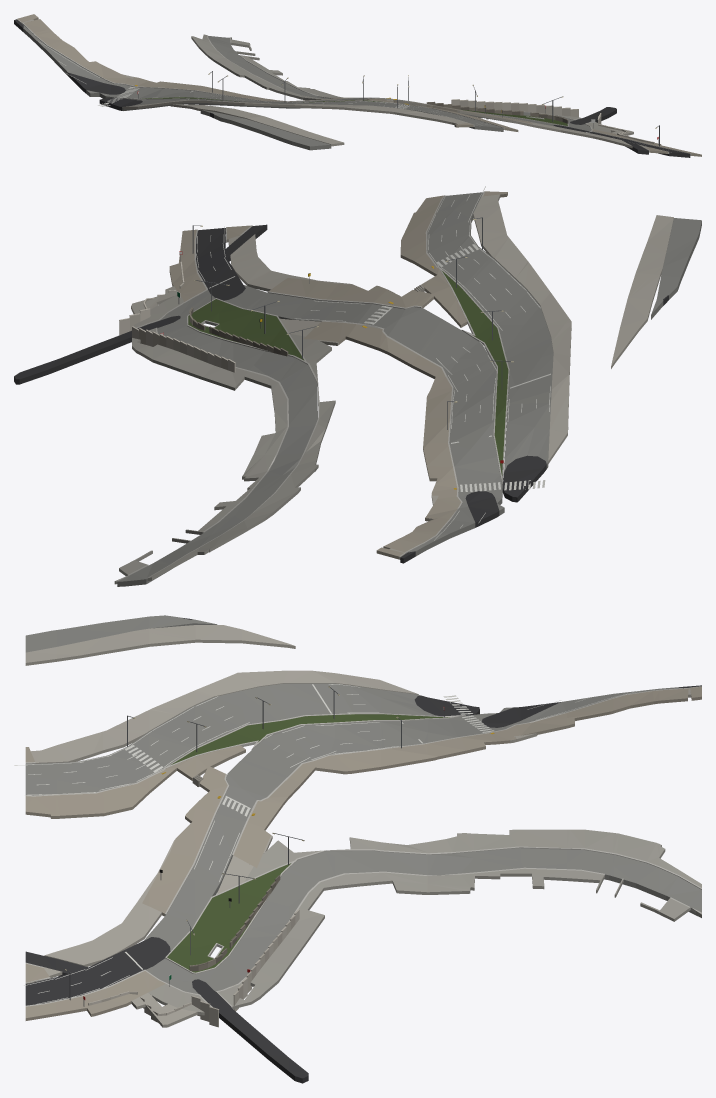
3 views of the same model, one above another, from view 1: azimuth 30°, elevation 25°; view 2: azimuth 150°, elevation 25°; view 3: azimuth 270°, elevation 25° (orthographic). The views are drawn at different scales.
Bounding box in the file's own units: 148 × 44.46 × 148.
